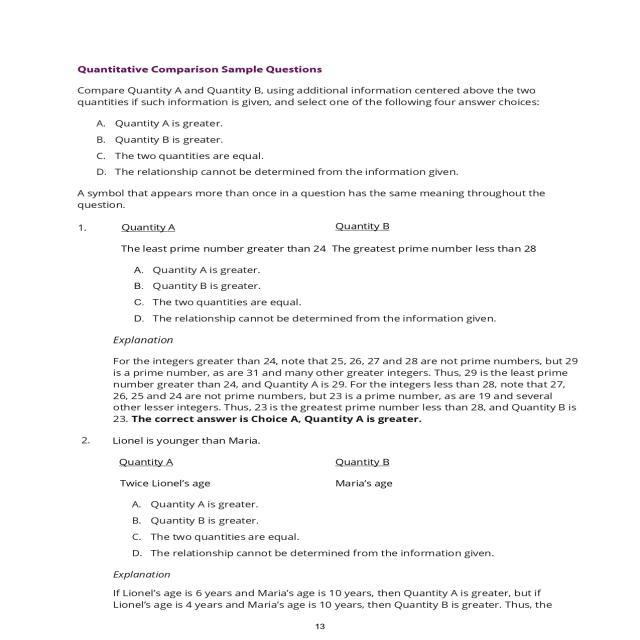Question_Paper_Area: (41, 52, 606, 619)
